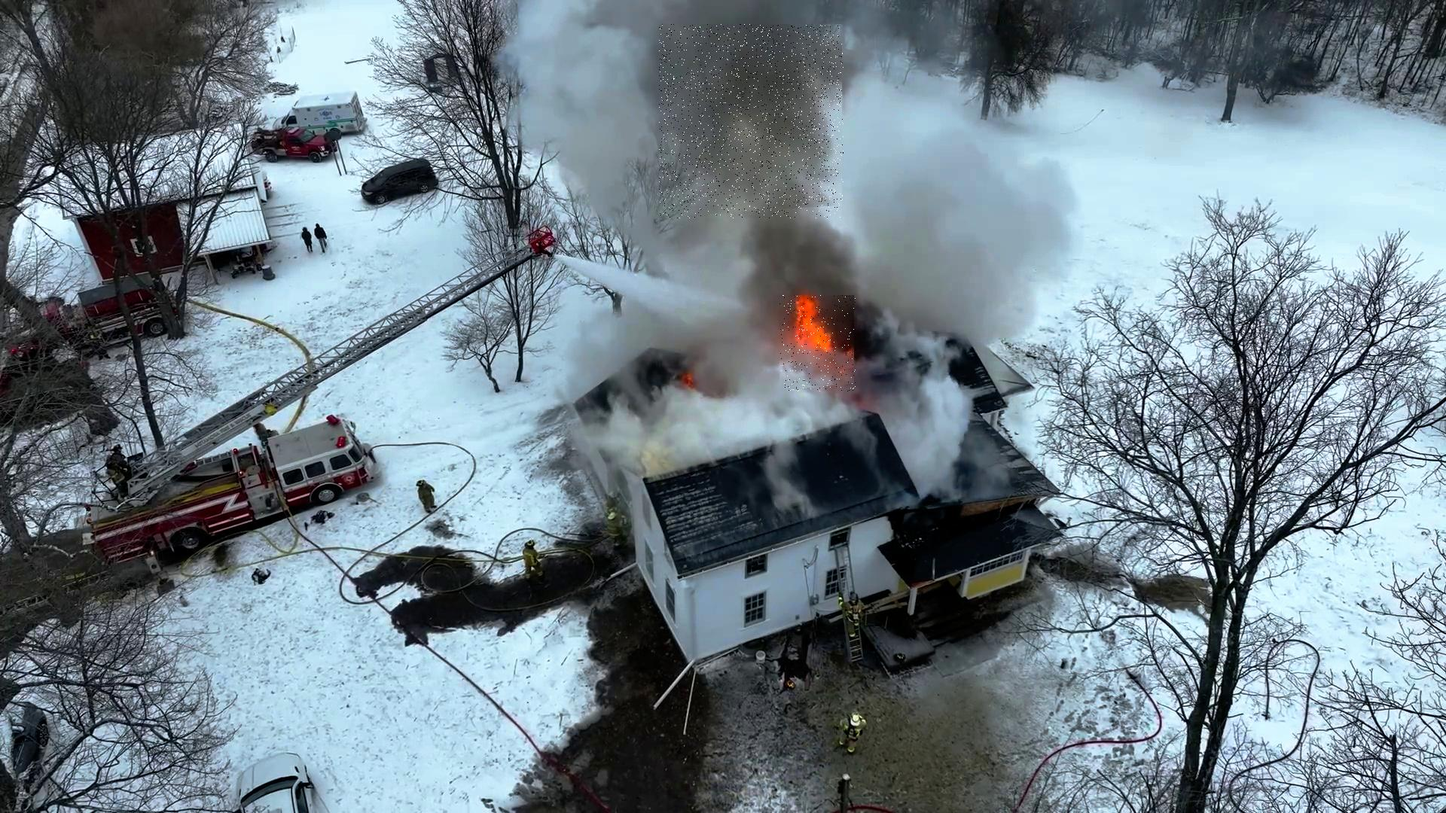fire: (780, 296, 856, 392)
smoke: (660, 25, 844, 219)
